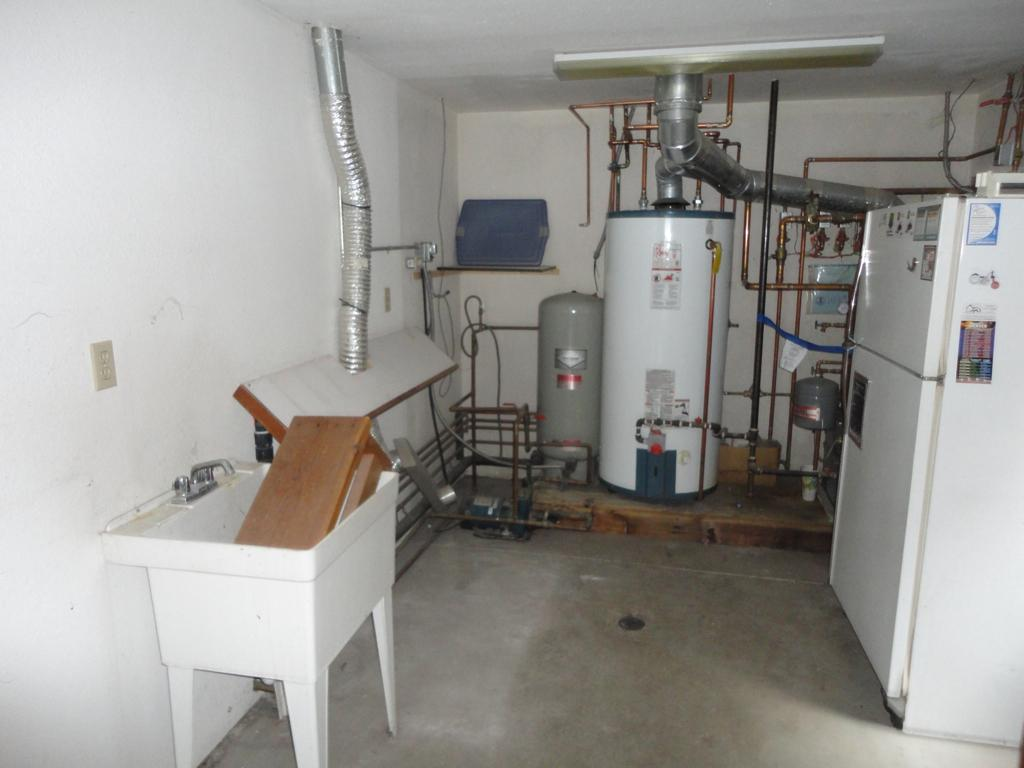handle: (834, 344, 856, 420), (843, 264, 868, 330)
